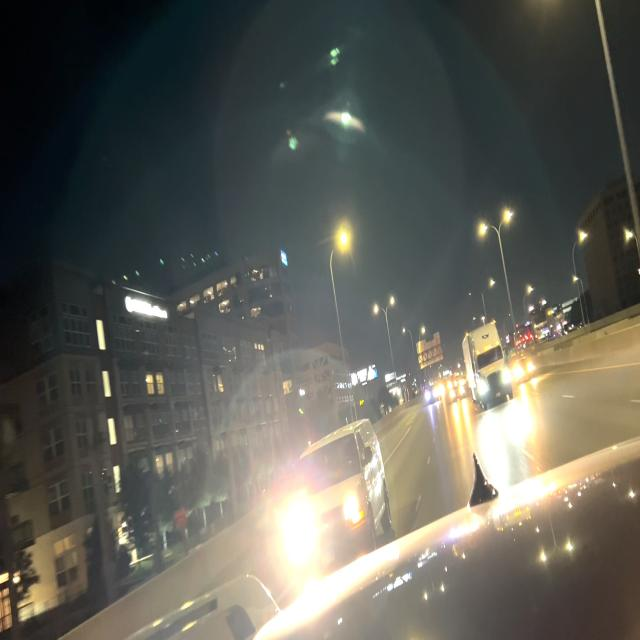back-of-sign: (416, 330, 444, 369)
